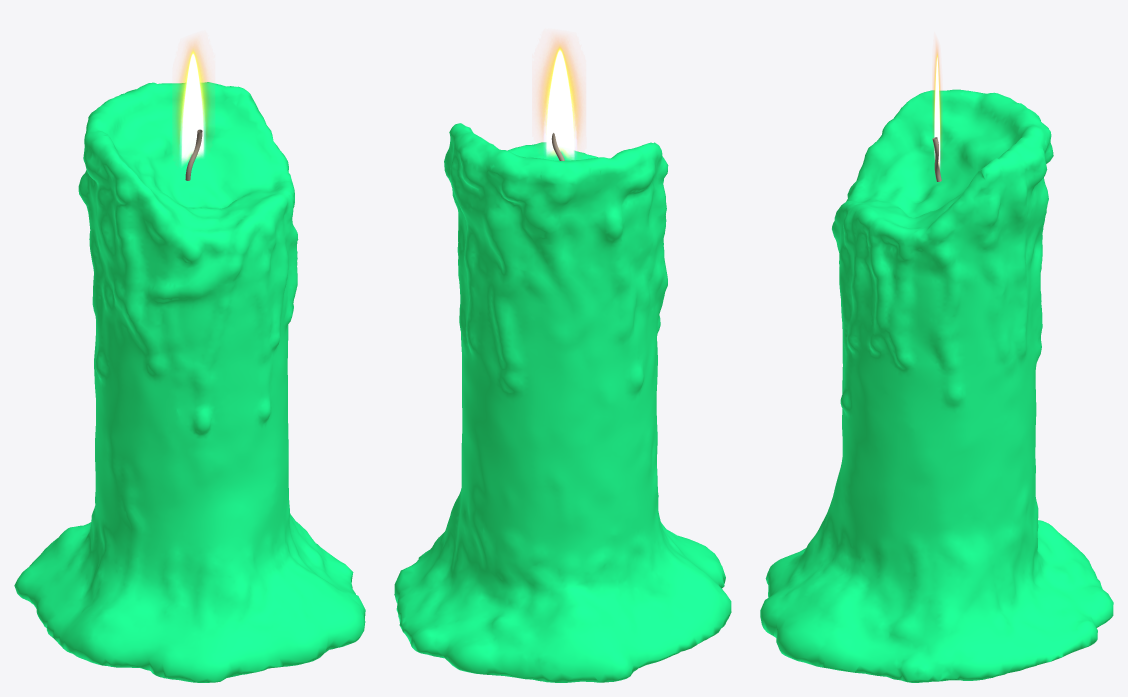
File: XCandle.glb
3 renders of one model, left to right at view 1: azimuth 30°, elevation 25°; view 2: azimuth 150°, elevation 25°; view 3: azimuth 270°, elevation 25°, orthographic.
Visible parts, largest first — view 1: Candle01, XFlame01; view 2: Candle01, XFlame01; view 3: Candle01, XFlame01.
Part boxes in pixels (x1,y1,x2,y2): Candle01: (14, 82, 365, 682); XFlame01: (175, 40, 210, 165); Candle01: (394, 123, 731, 682); XFlame01: (537, 36, 582, 159); Candle01: (760, 89, 1113, 682); XFlame01: (933, 43, 941, 169).
Bounding box in the file's own units: 1.07 × 2.08 × 1.14.
Materials: 3 (1 with a texture image).
